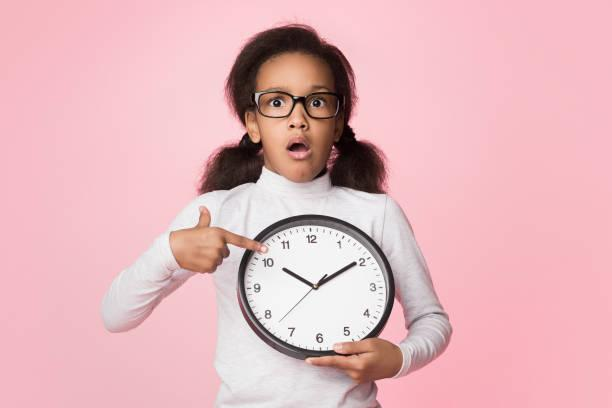clock: (240, 209, 399, 364)
